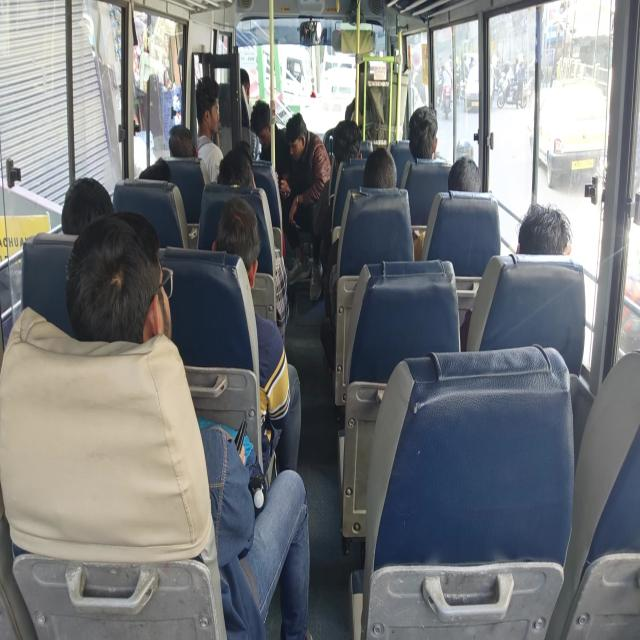person: (65, 210, 311, 638), (211, 195, 302, 476), (320, 146, 397, 372), (460, 201, 572, 351), (216, 146, 289, 345), (250, 99, 310, 280), (279, 111, 331, 298), (309, 118, 362, 300), (412, 155, 482, 260), (250, 99, 292, 196), (398, 105, 446, 188), (195, 75, 224, 184), (61, 176, 114, 235), (516, 202, 572, 255), (168, 124, 209, 185), (408, 105, 438, 160), (217, 147, 256, 188), (362, 146, 397, 189), (332, 119, 362, 169), (448, 155, 482, 192), (168, 124, 195, 157), (138, 157, 171, 181), (240, 68, 251, 128)
